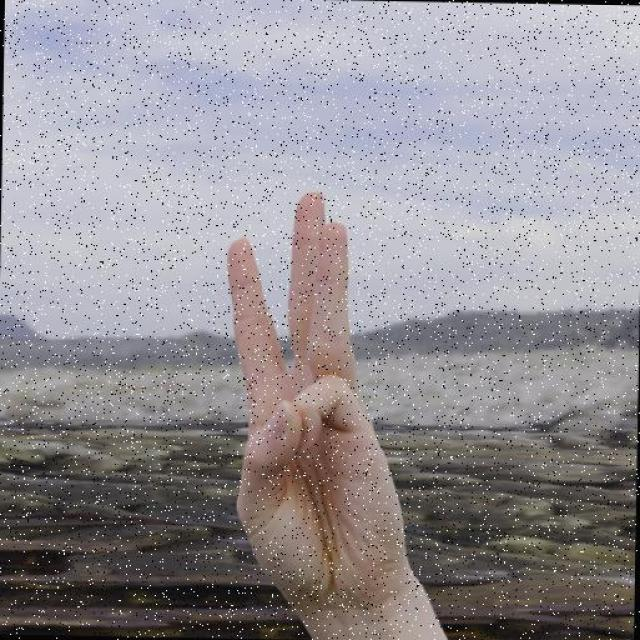W: (218, 185, 438, 633)
